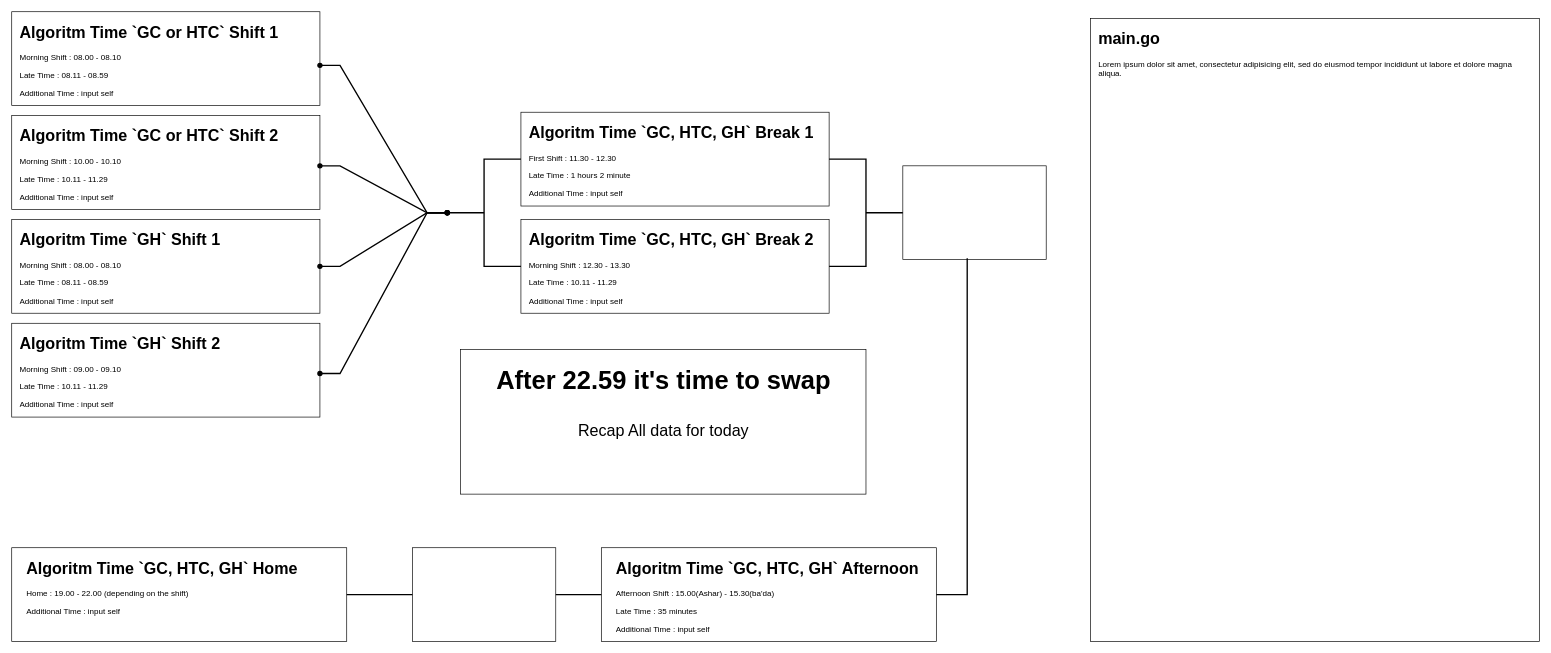
Image size: 1551x653. Some labels were removed from this diagram. Each missing label, with the centre of its shape:
EndPoint First switch : 11.30 Last Switch : 14.59: the point at 974,212
EndPoint First switch : 15.00 Last Switch : 15.32: the point at 484,594
